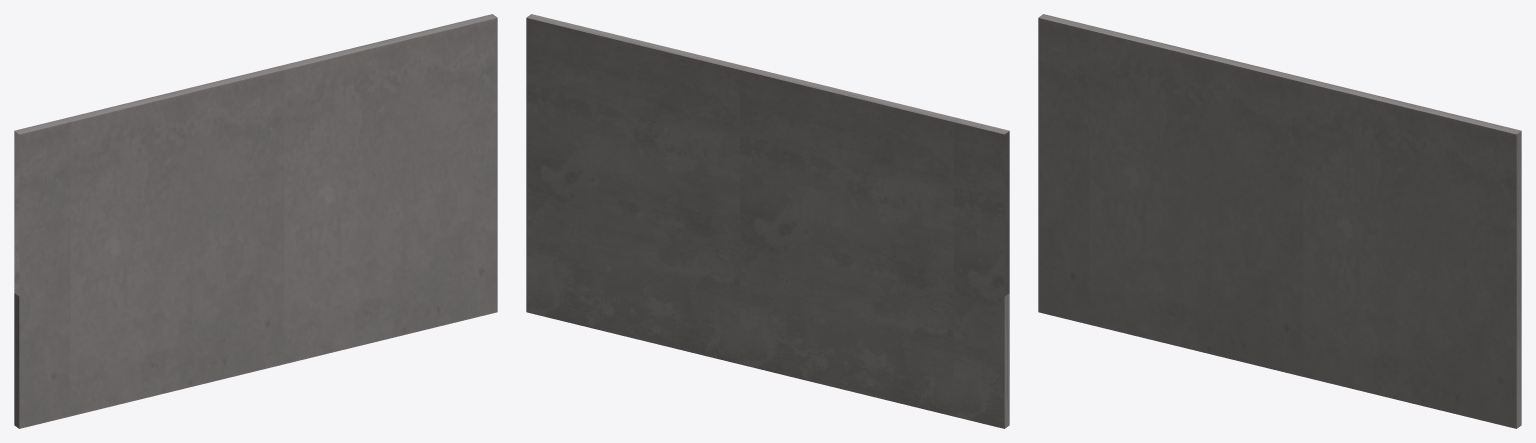
The model's file is wall_01_a.fbx.
3 renders of one model, left to right at view 1: azimuth 30°, elevation 25°; view 2: azimuth 150°, elevation 25°; view 3: azimuth 330°, elevation 25°, orthographic.
Visible parts, largest first — view 1: polySurface8; view 2: polySurface8; view 3: polySurface8.
Part boxes in pixels (bbox=[...]): polySurface8: bbox=[14, 14, 497, 428]; polySurface8: bbox=[526, 14, 1009, 428]; polySurface8: bbox=[1038, 14, 1521, 428].
Bounding box in the file's own units: 1573 × 925 × 29.53.
Materials: 1 (1 with a texture image).
